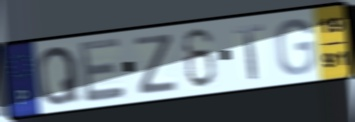6: (181, 26, 219, 91)
E: (76, 35, 128, 106)
G: (274, 17, 318, 78)
Q: (36, 44, 82, 108)
T: (232, 22, 266, 82)
Z: (133, 32, 179, 97)
